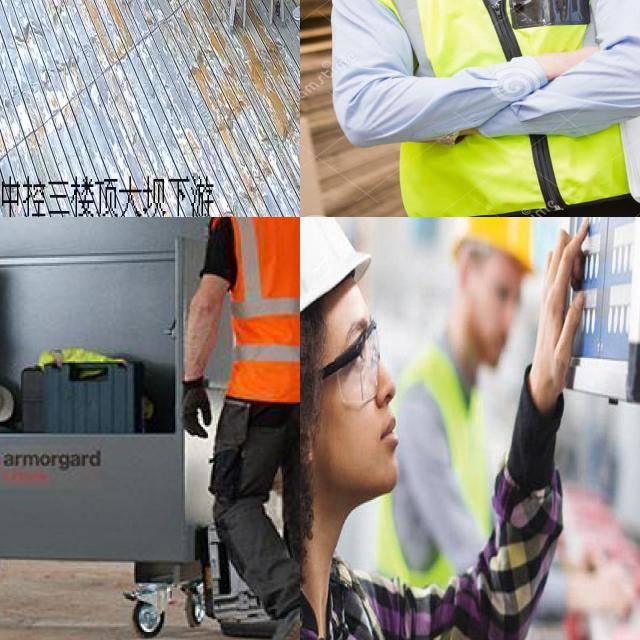face_nomask: (311, 298, 408, 514)
glasses: (330, 310, 384, 417)
hand_glove: (172, 366, 219, 450)
hand_noglove: (538, 217, 593, 422)
head_helmet: (300, 217, 366, 360), (455, 217, 535, 264)
person: (300, 0, 640, 217), (400, 217, 546, 586), (184, 217, 300, 640), (300, 217, 409, 640)
shoes: (243, 591, 300, 640)
vest: (322, 0, 640, 206), (403, 334, 494, 568), (208, 217, 300, 403)
